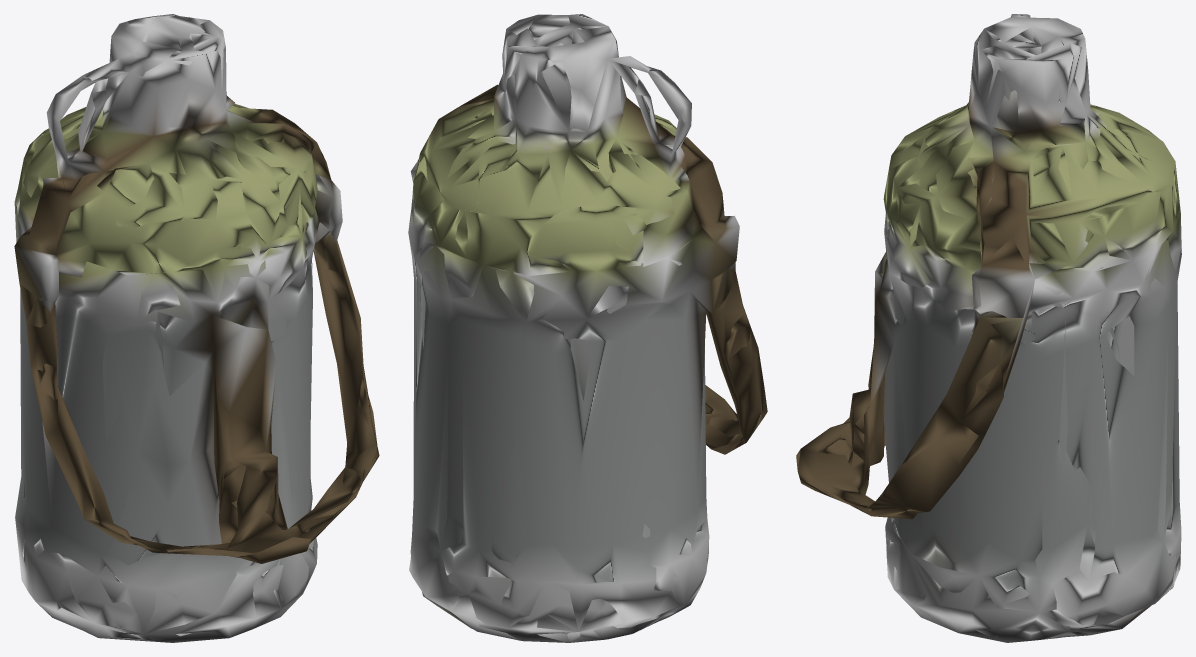
The model's file is gen3d-water-canteen-lod0.glb.
The picture shows the model from 3 angles, left to right: view 1: azimuth 30°, elevation 25°; view 2: azimuth 150°, elevation 25°; view 3: azimuth 270°, elevation 25°; orthographic projection.
Parts seen in each view (by area): view 1: part_0; view 2: part_0; view 3: part_0.
Part boxes in pixels (box(x1,y1,x2,y2)): part_0: box(14, 14, 379, 642); part_0: box(408, 14, 767, 642); part_0: box(796, 14, 1181, 642).
Size of the model in its own units: 0.5725 by 0.9999 by 0.6324.
